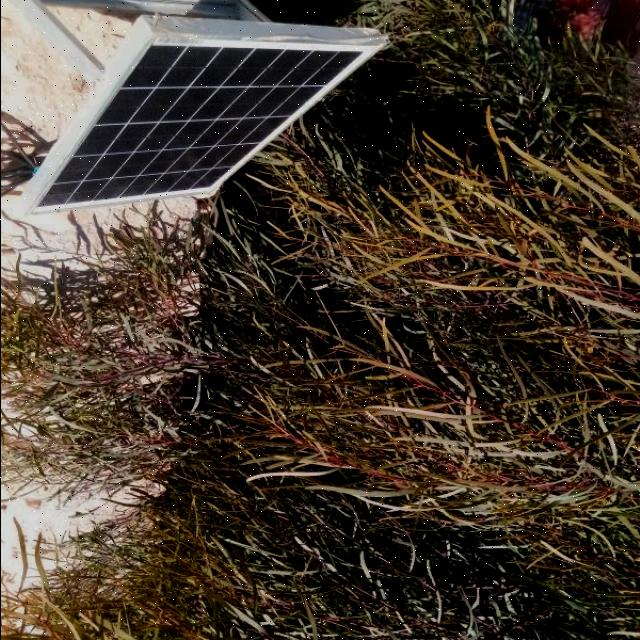Normal Solar Panel: (22, 34, 382, 216)
